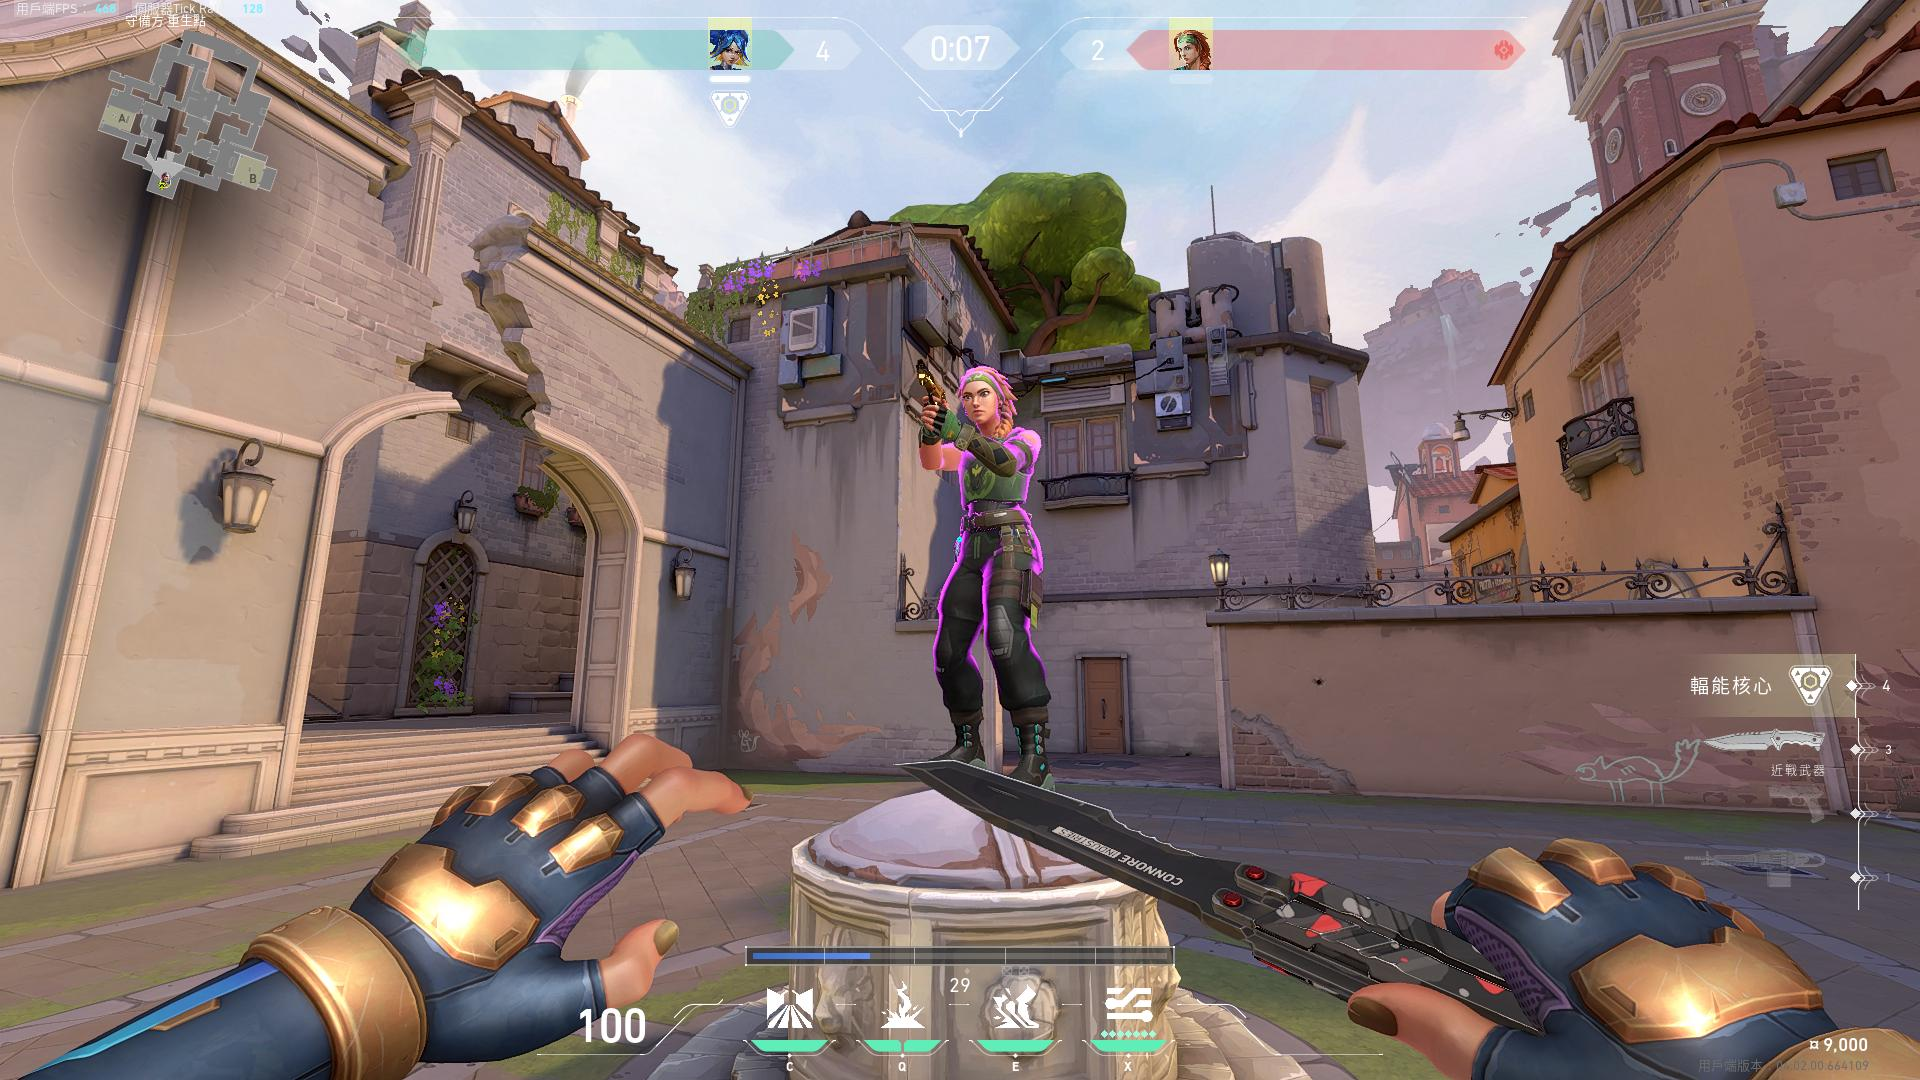enemyBody: (959, 448, 1030, 545)
enemyHead: (957, 375, 1004, 427)
